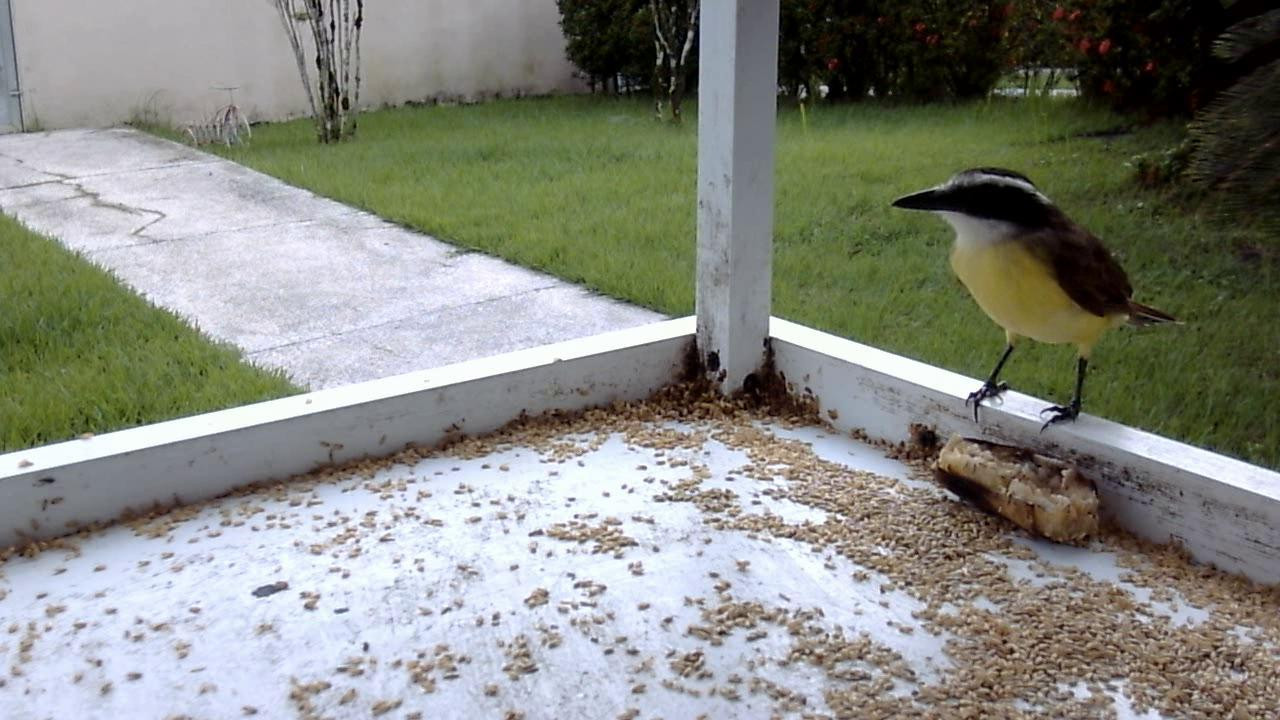bem_te_vi: (879, 154, 1186, 450)
